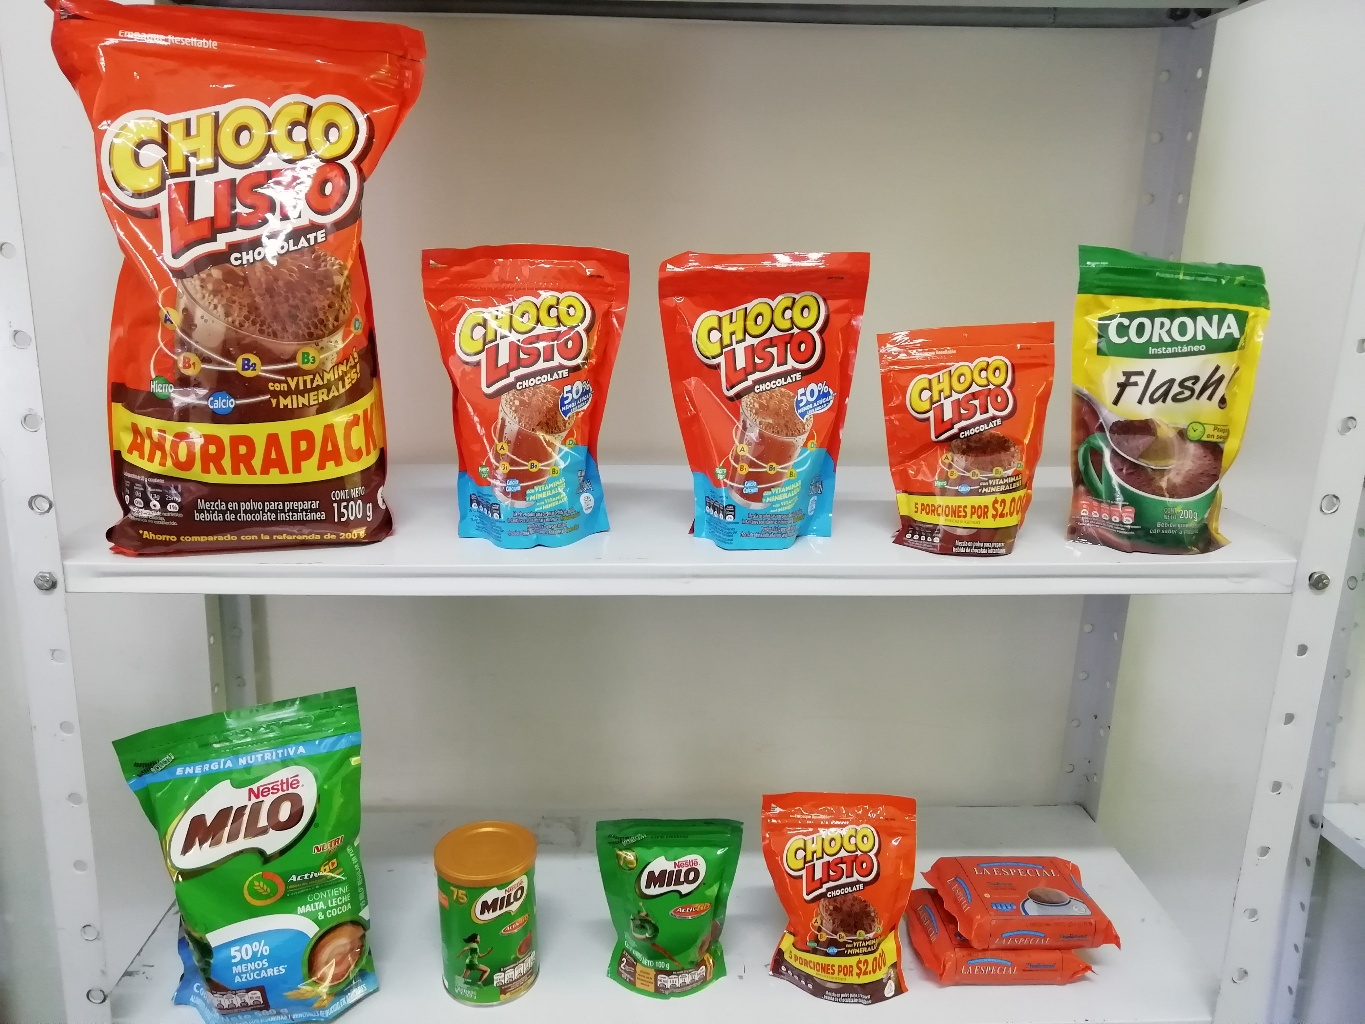COL0170103DYP1,500: (44, 0, 432, 553)
COL0170104DYP20000: (420, 228, 662, 557)
COL0170203DYP10000: (574, 799, 755, 1013)
COL0170203LAT20000: (412, 801, 569, 1011)
COL0170205DYP50000: (89, 693, 412, 1024)
